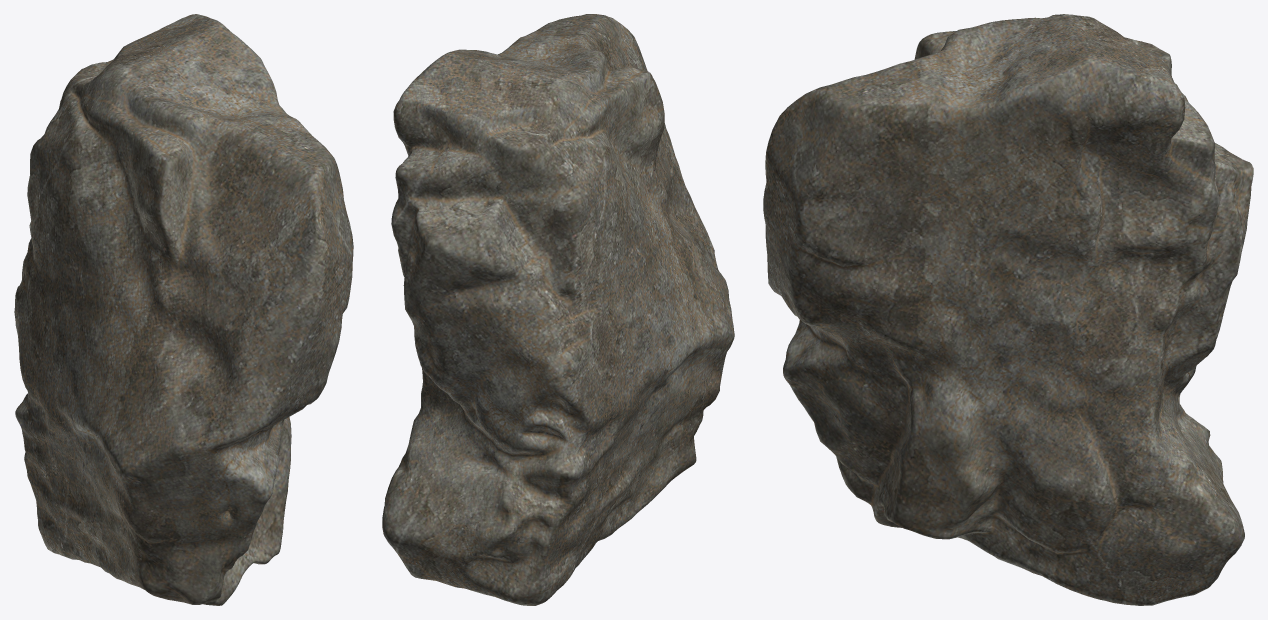
File: rock.gltf
The picture shows the model from 3 angles, left to right: view 1: azimuth 30°, elevation 25°; view 2: azimuth 150°, elevation 25°; view 3: azimuth 270°, elevation 25°; orthographic projection. The views are drawn at different scales.
Parts seen in each view (by area): view 1: Rock_9; view 2: Rock_9; view 3: Rock_9.
Part boxes in pixels (<box>): Rock_9: <box>14,14,353,605</box>; Rock_9: <box>382,14,734,605</box>; Rock_9: <box>763,14,1253,605</box>.
Bounding box in the file's own units: 1.54 × 3.44 × 2.74.
1 material, 1 textured.
